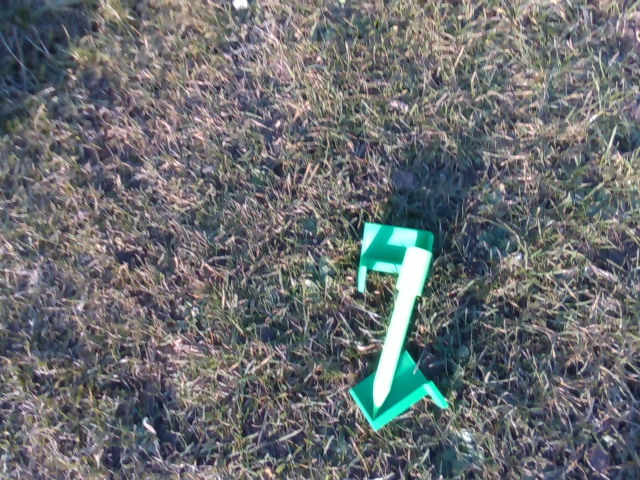Probe: (369, 246, 429, 421)
